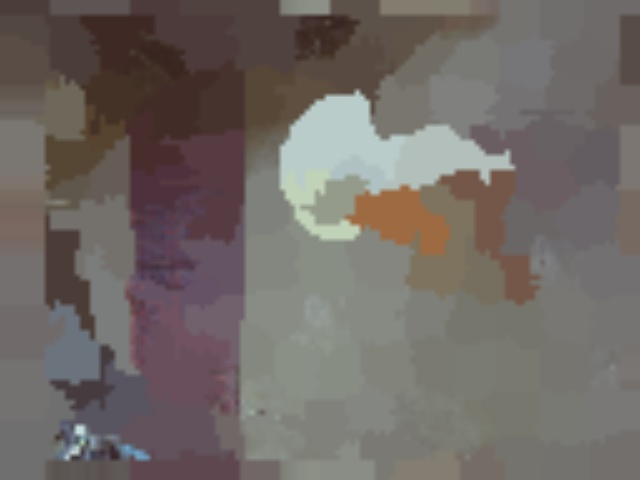eight: (287, 200, 333, 224)
